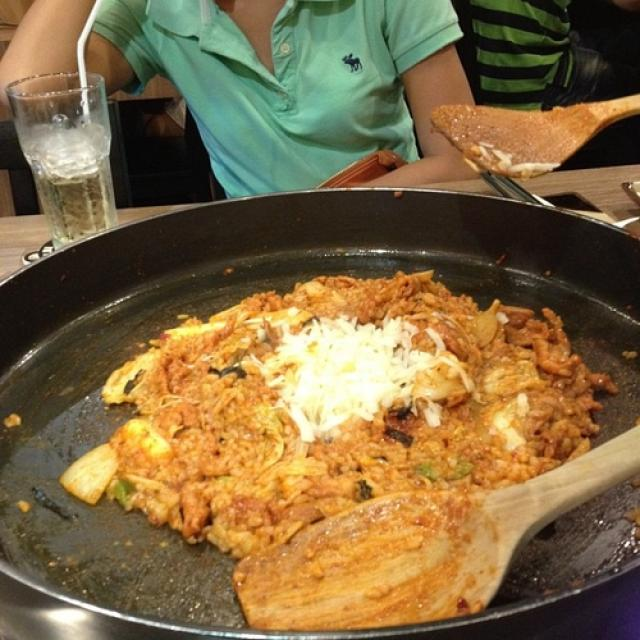鸡肉料理 含炸鸡: (83, 261, 589, 589)
